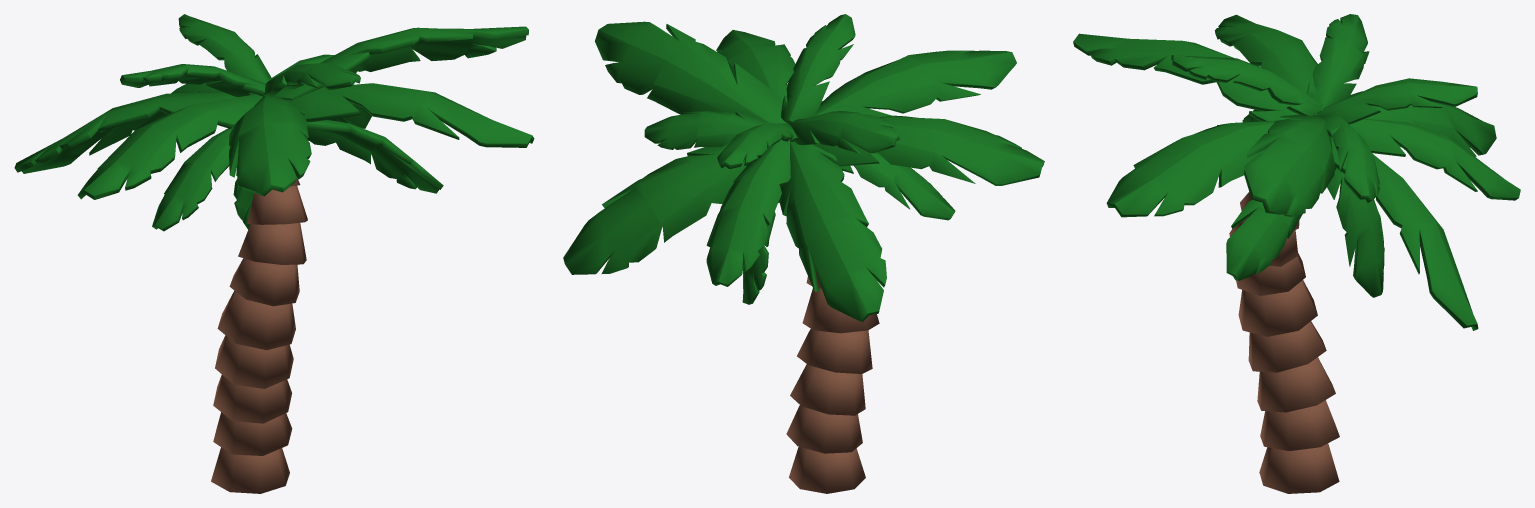
The model's file is Tree1.fbx.
3 renders of one model, left to right at view 1: azimuth 30°, elevation 25°; view 2: azimuth 150°, elevation 25°; view 3: azimuth 270°, elevation 25°, orthographic. The views are drawn at different scales.
Visible parts, largest first — view 1: Plane.001, Cube; view 2: Plane.001, Cube; view 3: Plane.001, Cube.
Boxes of the visible parts, bbox=[...] form: Plane.001: bbox=[14, 14, 534, 231]; Cube: bbox=[211, 178, 307, 493]; Plane.001: bbox=[563, 14, 1044, 321]; Cube: bbox=[786, 271, 879, 493]; Plane.001: bbox=[1073, 14, 1520, 330]; Cube: bbox=[1229, 192, 1339, 493].
Size of the model in its own units: 1393 by 1261 by 1154.
